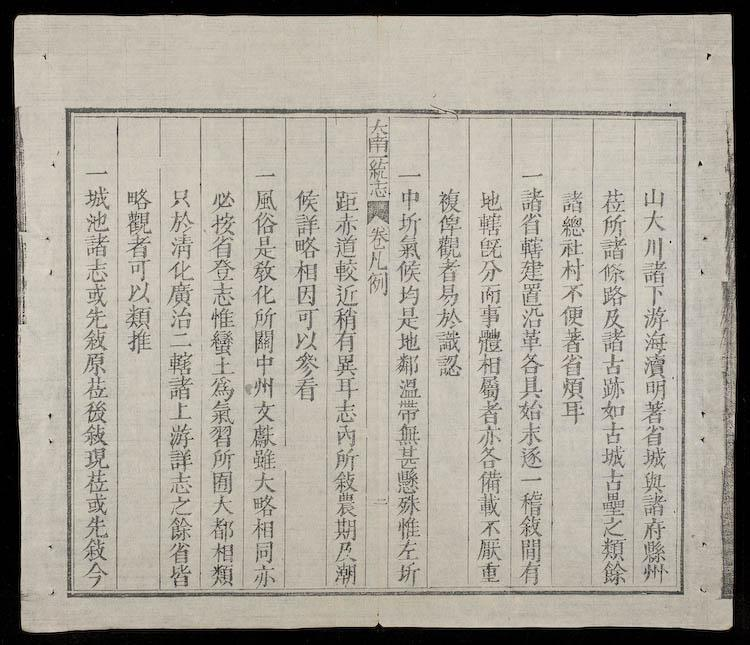c: (80, 561, 110, 587), (123, 303, 153, 329), (475, 327, 505, 353), (599, 186, 627, 213), (166, 281, 195, 307), (208, 329, 237, 355), (81, 257, 111, 282), (81, 232, 111, 257), (248, 423, 278, 448), (124, 329, 154, 354), (292, 212, 322, 237), (639, 259, 669, 284), (293, 186, 321, 212), (517, 185, 545, 211), (166, 515, 195, 540), (475, 492, 504, 517), (207, 400, 236, 425), (166, 422, 195, 447), (166, 375, 195, 400), (434, 353, 463, 378), (124, 209, 153, 234), (82, 184, 111, 209), (475, 211, 504, 236), (166, 350, 195, 375), (598, 328, 627, 353), (475, 468, 504, 493), (208, 562, 237, 587), (475, 536, 504, 561), (207, 516, 237, 540), (433, 329, 463, 353), (80, 537, 110, 561), (168, 233, 195, 259), (436, 186, 463, 212), (559, 327, 586, 353), (517, 489, 545, 514), (292, 376, 320, 401), (558, 399, 586, 424), (208, 375, 236, 400), (641, 305, 669, 330), (394, 468, 422, 493), (393, 444, 422, 468), (166, 447, 195, 471), (82, 469, 111, 493), (557, 257, 586, 281), (124, 186, 153, 210), (598, 375, 627, 399), (516, 445, 545, 469), (208, 282, 237, 306), (516, 258, 545, 282), (291, 259, 320, 283), (249, 563, 278, 587), (639, 492, 668, 516), (598, 237, 628, 260), (598, 537, 628, 560), (639, 562, 670, 584), (641, 353, 668, 378), (251, 235, 278, 260), (293, 351, 320, 376), (559, 188, 586, 213), (82, 514, 110, 538), (475, 400, 503, 424), (251, 211, 279, 235), (639, 399, 667, 423), (81, 351, 109, 375), (167, 209, 195, 233), (332, 399, 360, 423), (516, 421, 544, 445), (331, 258, 359, 282), (166, 563, 194, 587), (394, 398, 422, 422), (517, 375, 545, 399), (640, 208, 668, 232), (558, 303, 586, 327), (640, 446, 669, 469), (124, 235, 153, 258), (81, 376, 110, 399), (516, 235, 545, 258), (434, 306, 463, 329), (639, 517, 668, 540), (81, 328, 110, 351), (599, 561, 628, 584), (516, 514, 545, 537), (81, 446, 110, 469), (598, 445, 628, 467), (395, 305, 421, 330), (251, 259, 278, 283), (599, 468, 626, 492), (394, 515, 421, 539), (208, 469, 235, 493), (332, 352, 359, 376), (517, 212, 544, 236), (435, 259, 462, 283), (333, 188, 360, 212), (332, 562, 359, 586), (517, 537, 544, 561), (208, 447, 236, 470), (395, 259, 423, 282), (249, 516, 277, 539), (82, 283, 110, 306), (166, 471, 194, 494), (209, 188, 237, 211), (207, 424, 235, 447), (81, 423, 109, 446), (517, 282, 545, 305), (476, 259, 504, 282), (209, 212, 237, 235), (292, 236, 320, 259), (434, 235, 462, 258), (332, 212, 360, 235), (558, 214, 586, 237), (332, 447, 360, 470), (250, 470, 278, 493), (641, 329, 669, 352), (250, 493, 278, 516), (208, 258, 236, 281), (640, 185, 668, 208), (640, 470, 668, 493), (639, 540, 668, 562), (475, 561, 504, 583), (475, 424, 504, 446), (82, 210, 111, 232), (516, 399, 545, 421), (166, 259, 195, 281), (208, 307, 237, 329), (598, 261, 627, 283), (641, 235, 667, 259), (251, 329, 277, 353), (476, 375, 502, 399), (252, 187, 278, 211), (396, 235, 422, 259), (333, 492, 359, 516), (396, 211, 422, 235), (599, 492, 626, 515), (167, 307, 194, 330), (250, 400, 277, 423), (477, 188, 504, 211), (82, 400, 109, 423), (559, 376, 586, 399), (394, 352, 421, 375), (332, 235, 359, 258), (332, 283, 359, 306), (332, 307, 359, 330), (166, 540, 193, 563), (332, 517, 359, 540), (394, 561, 421, 584), (516, 561, 543, 584), (599, 515, 627, 537), (208, 236, 236, 258), (599, 284, 627, 306), (599, 214, 627, 236), (599, 400, 627, 422), (476, 236, 504, 258), (475, 446, 503, 468), (397, 186, 422, 210), (518, 351, 544, 374), (251, 306, 277, 329), (559, 353, 585, 376), (250, 448, 277, 470), (250, 376, 277, 398), (599, 353, 626, 375), (518, 306, 545, 328), (476, 305, 503, 327), (250, 283, 277, 305), (436, 213, 463, 235), (124, 258, 151, 280), (599, 422, 626, 444), (332, 470, 359, 492), (82, 306, 109, 328), (125, 281, 152, 303), (394, 422, 422, 443), (475, 354, 503, 375), (394, 494, 422, 515), (82, 493, 110, 514), (208, 541, 236, 562), (293, 283, 318, 306), (251, 540, 276, 563), (168, 186, 193, 209), (332, 330, 358, 352), (396, 376, 422, 398), (293, 329, 319, 351), (333, 424, 359, 446), (518, 328, 544, 350), (167, 495, 194, 516), (209, 494, 236, 515), (558, 237, 585, 258), (476, 283, 503, 304), (333, 377, 360, 398), (640, 424, 667, 445), (293, 307, 318, 329), (600, 307, 625, 329), (436, 283, 461, 305), (641, 284, 667, 305), (559, 282, 585, 303), (395, 539, 421, 560), (642, 378, 668, 399), (395, 330, 421, 351), (209, 355, 236, 375), (251, 354, 276, 375), (396, 284, 421, 305), (333, 541, 358, 562), (476, 518, 503, 537), (366, 271, 388, 294), (168, 401, 193, 421), (167, 331, 194, 349), (366, 249, 388, 270), (252, 167, 279, 184), (82, 165, 110, 180), (367, 135, 389, 154), (517, 472, 544, 487), (518, 168, 545, 183), (368, 226, 389, 245), (368, 118, 389, 136), (396, 169, 423, 182), (368, 181, 388, 197), (368, 167, 389, 180), (369, 154, 388, 168)
